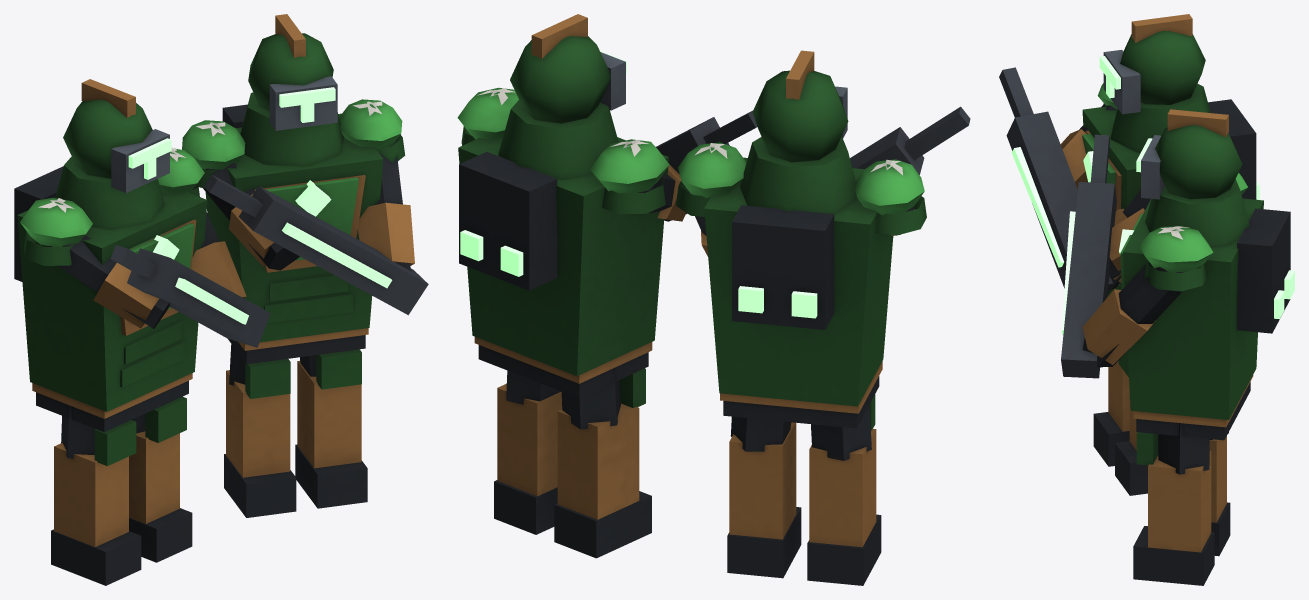
Rendered from sentry_dl8_green.glb.
3 renders of one model, left to right at view 1: azimuth 30°, elevation 25°; view 2: azimuth 150°, elevation 25°; view 3: azimuth 270°, elevation 25°, orthographic. The views are drawn at different scales.
Parts seen in each view (by area): view 1: sentry_dl8_green; view 2: sentry_dl8_green; view 3: sentry_dl8_green.
Part boxes in pixels (<box>): sentry_dl8_green: <box>14,14,428,585</box>; sentry_dl8_green: <box>457,14,970,585</box>; sentry_dl8_green: <box>999,14,1294,585</box>.
Size of the model in its own units: 0.3692 by 0.4109 by 0.2479.
2 materials, 1 textured.
